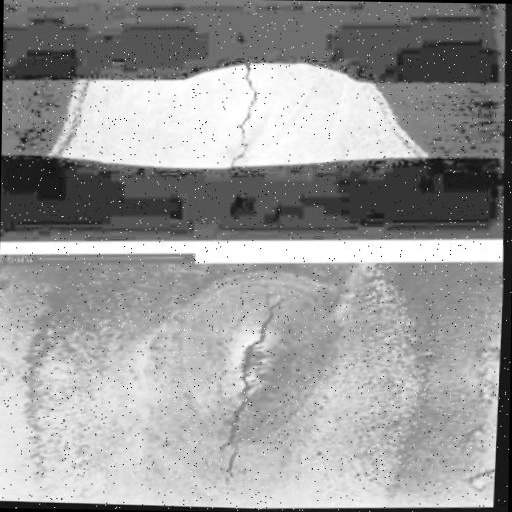crack: (209, 284, 314, 492), (226, 63, 275, 170)
